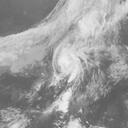cyclone: (51, 38, 91, 80)
